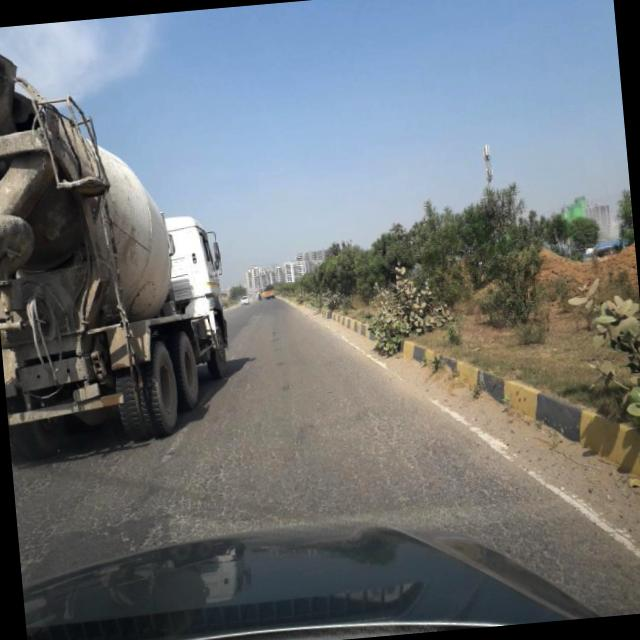crack: (14, 397, 553, 534)
